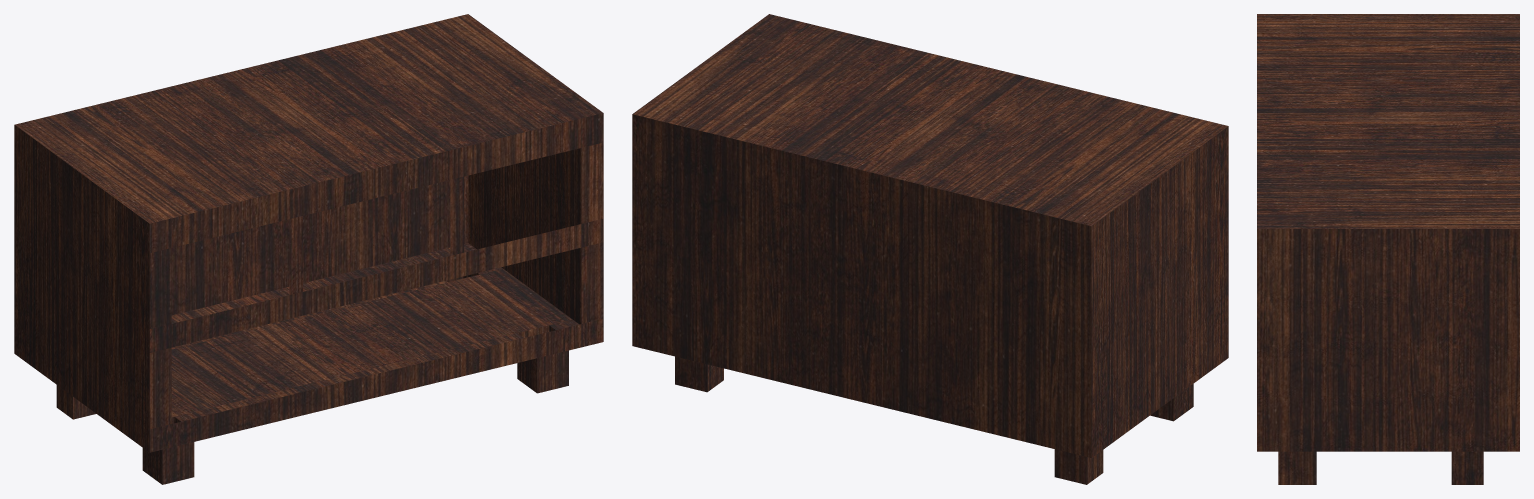
File: dresser_colored.FBX
The picture shows the model from 3 angles, left to right: view 1: azimuth 30°, elevation 25°; view 2: azimuth 150°, elevation 25°; view 3: azimuth 270°, elevation 25°; orthographic projection. The views are drawn at different scales.
Visible parts, largest first — view 1: Box001; view 2: Box001; view 3: Box001.
Part boxes in pixels (x1,y1,x2,y2): Box001: (14, 14, 603, 484); Box001: (632, 14, 1228, 484); Box001: (1257, 14, 1519, 484).
Size of the model in its own units: 70.65 by 40.9 by 36.47.
1 material, 1 textured.
